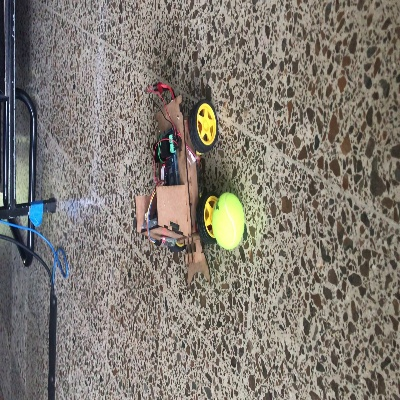Ball: (211, 192, 246, 249)
Robot: (136, 95, 216, 283)
